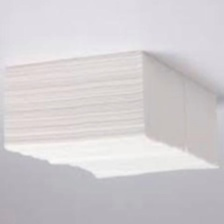tissue: (0, 45, 224, 184)
